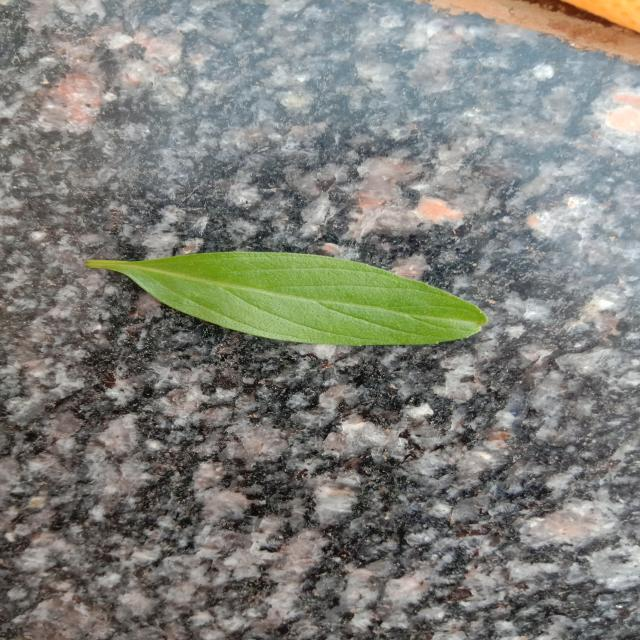kamakasturi: (86, 251, 486, 346)
